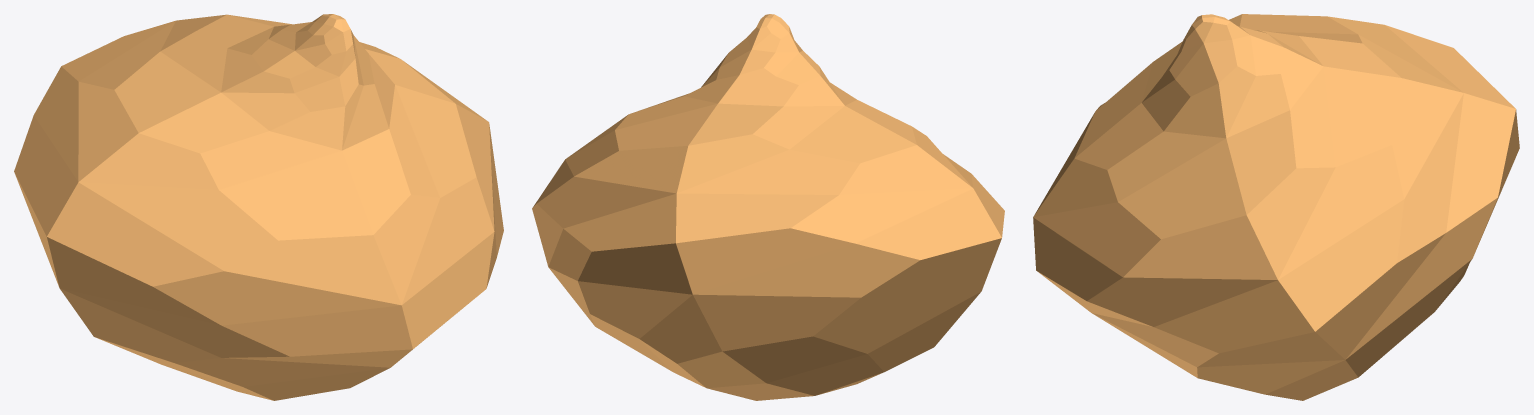
Rendered from Bengkuang.fbx.
3 renders of one model, left to right at view 1: azimuth 30°, elevation 25°; view 2: azimuth 150°, elevation 25°; view 3: azimuth 270°, elevation 25°, orthographic. The views are drawn at different scales.
Visible parts, largest first — view 1: Cube.010; view 2: Cube.010; view 3: Cube.010.
Part boxes in pixels (x1=…): Cube.010: x1=14, y1=14, x2=503, y2=400; Cube.010: x1=532, y1=14, x2=1004, y2=400; Cube.010: x1=1033, y1=14, x2=1519, y2=400.
Size of the model in its own units: 5795 by 4340 by 5219.
